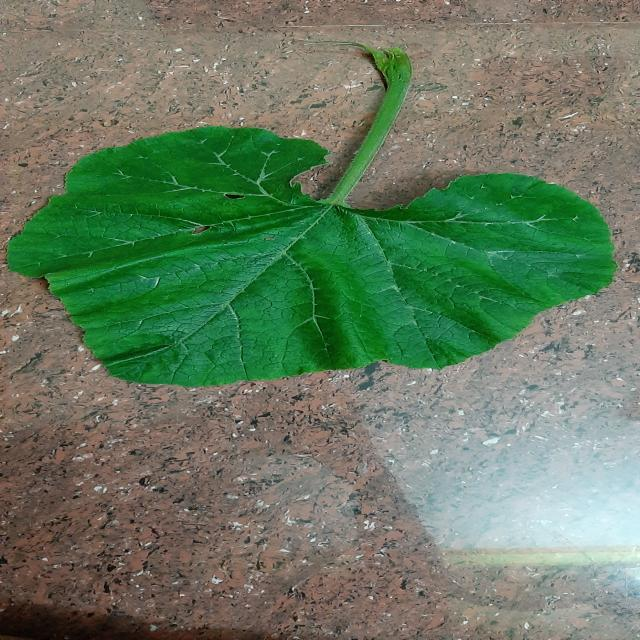pumpkin: (8, 46, 615, 386)
